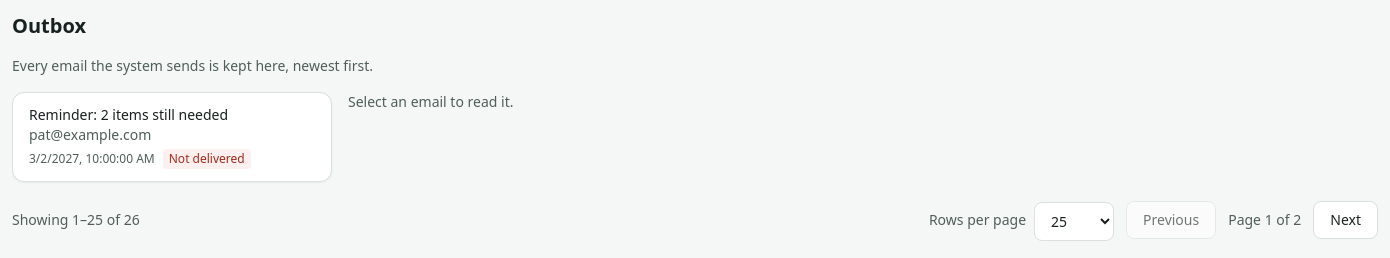
Scenario: OutboxPage › pages through the outbox and keeps the page in the URL
Expected: the text "Page 1 of 2" is shown, [1228,210,1301,230]
Expected: the button "Previous" is disabled, [1126,200,1216,238]
What coordinates should you click on to do the following:
click the button "Next"
I would click on:
 (1346, 220)
Its box is [1313,200,1378,238].
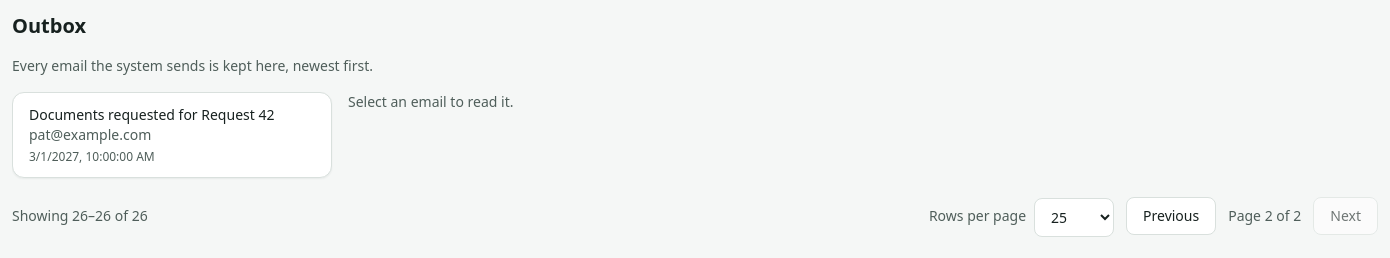
Result: the text "Page 2 of 2" is shown at [1228,206,1301,226]
Result: the text "Documents requested for Request 42" is shown at [29,105,274,125]
Result: the button "Next" is disabled at [1313,196,1378,234]
